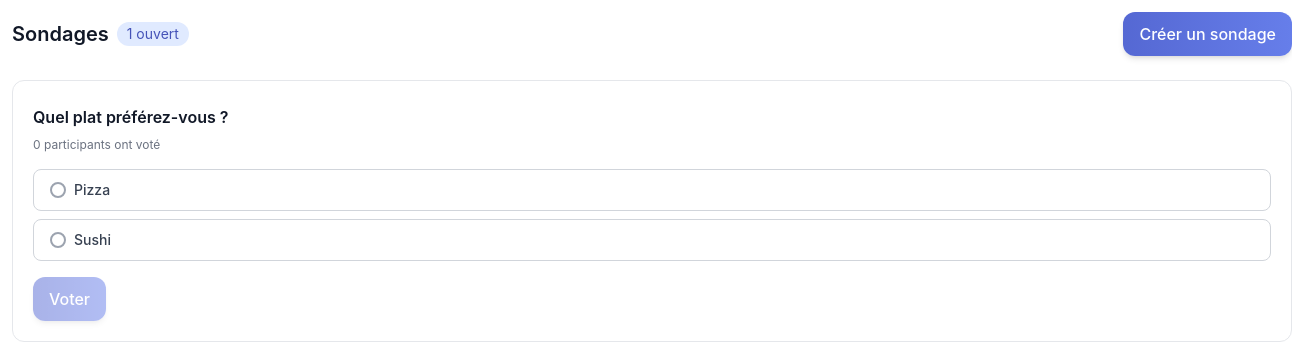
Test case: EventPollsTab › updates a poll in place when it is voted on
The width and height of the screenshot is (1304, 359).
Check: the text "Quel plat préférez-vous ?" is shown, box [33, 107, 228, 127]
Click the button "Pizza". click: (92, 190)
box: [33, 169, 1271, 211]
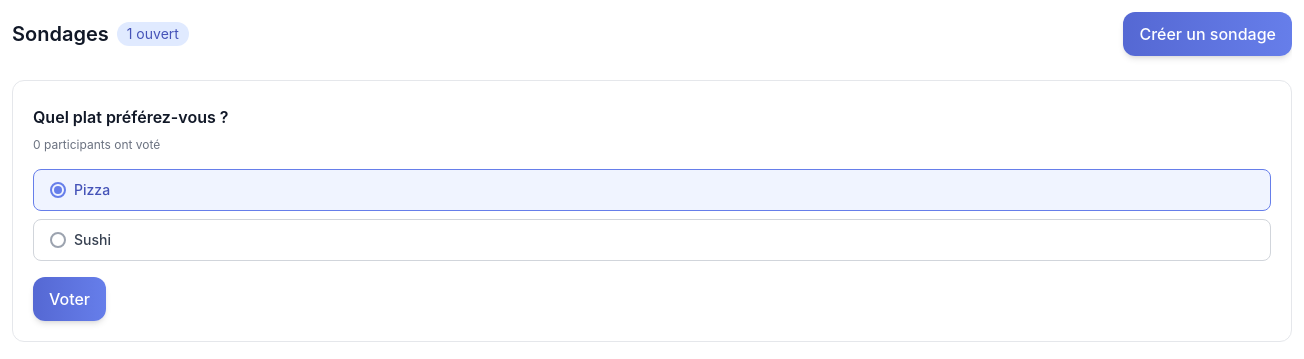
Click the button "Voter". click: (70, 299)
box: [33, 277, 106, 321]
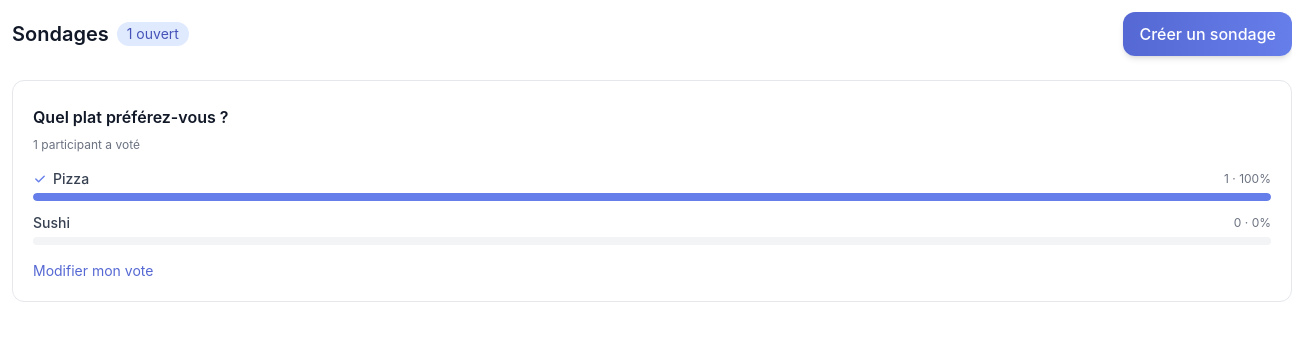
Check: the text "1 · 100%" is shown, box [1224, 171, 1271, 187]
